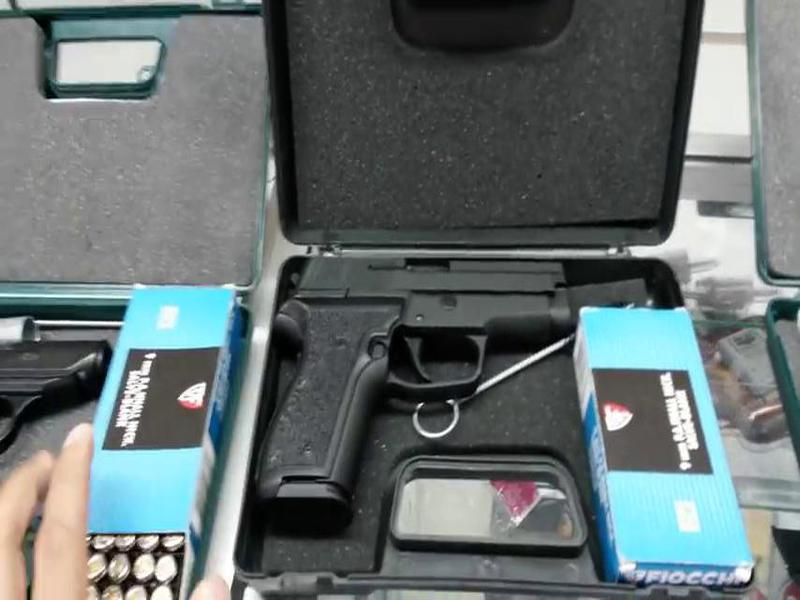Pistola: (246, 250, 588, 525)
